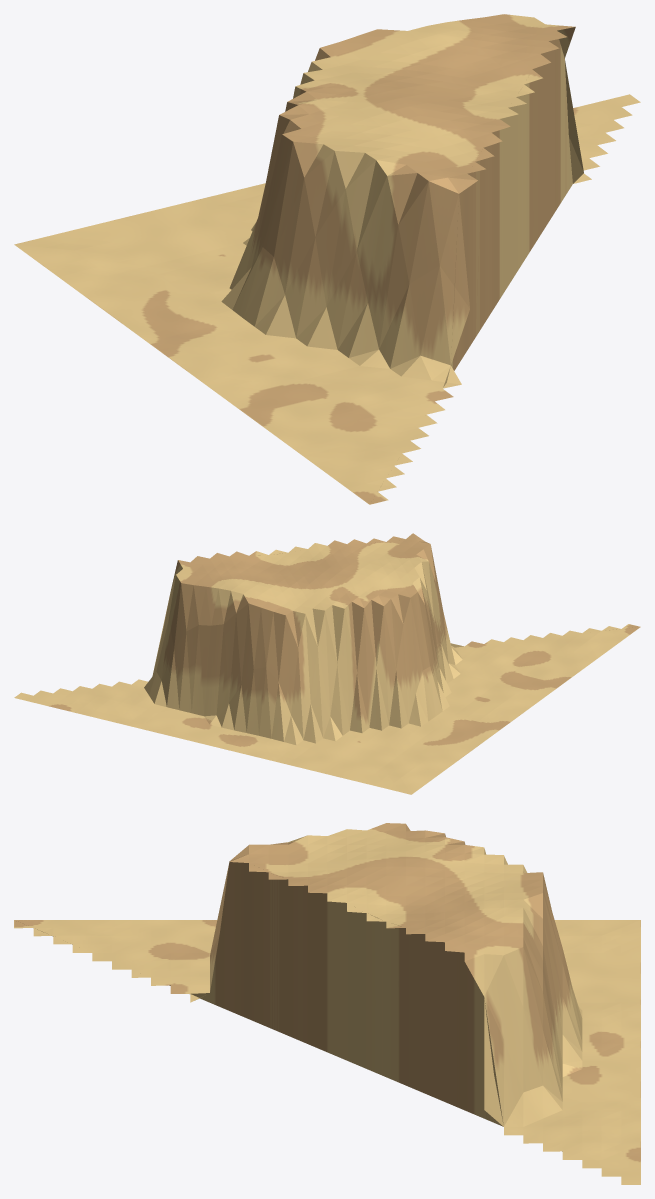
Rendered from Desert_Mountains_12_SW.obj.
3 views of the same model, one above another, from view 1: azimuth 30°, elevation 25°; view 2: azimuth 150°, elevation 25°; view 3: azimuth 270°, elevation 25° (orthographic). The views are drawn at different scales.
Bounding box in the file's own units: 10 × 2.84 × 10.
Materials: 1 (1 with a texture image).
